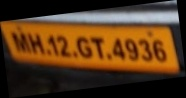character: (76, 36, 93, 58), (12, 32, 30, 52), (90, 35, 105, 59), (28, 31, 44, 53), (138, 38, 153, 61), (153, 39, 168, 62), (125, 37, 139, 60), (57, 34, 71, 56), (112, 37, 125, 59), (48, 34, 60, 56)
